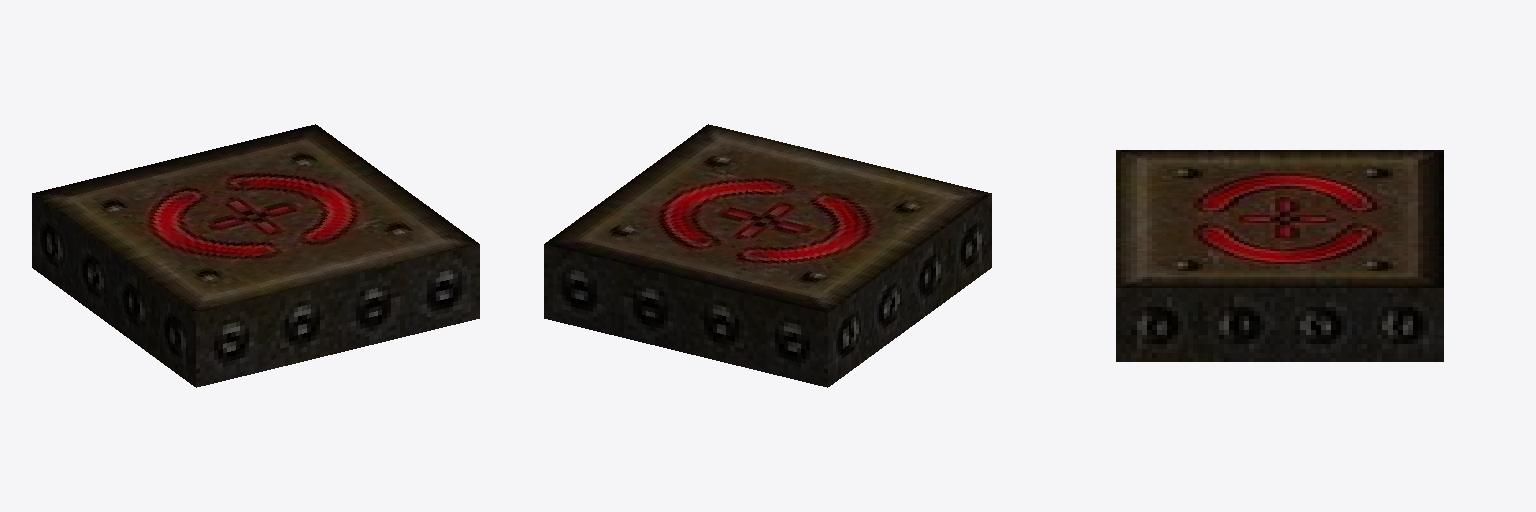
The picture shows the model from 3 angles: view 1: azimuth 30°, elevation 25°; view 2: azimuth 150°, elevation 25°; view 3: azimuth 270°, elevation 25°; orthographic projection.
Size of the model in its own units: 32 by 8 by 32.
2 materials, 2 textured.